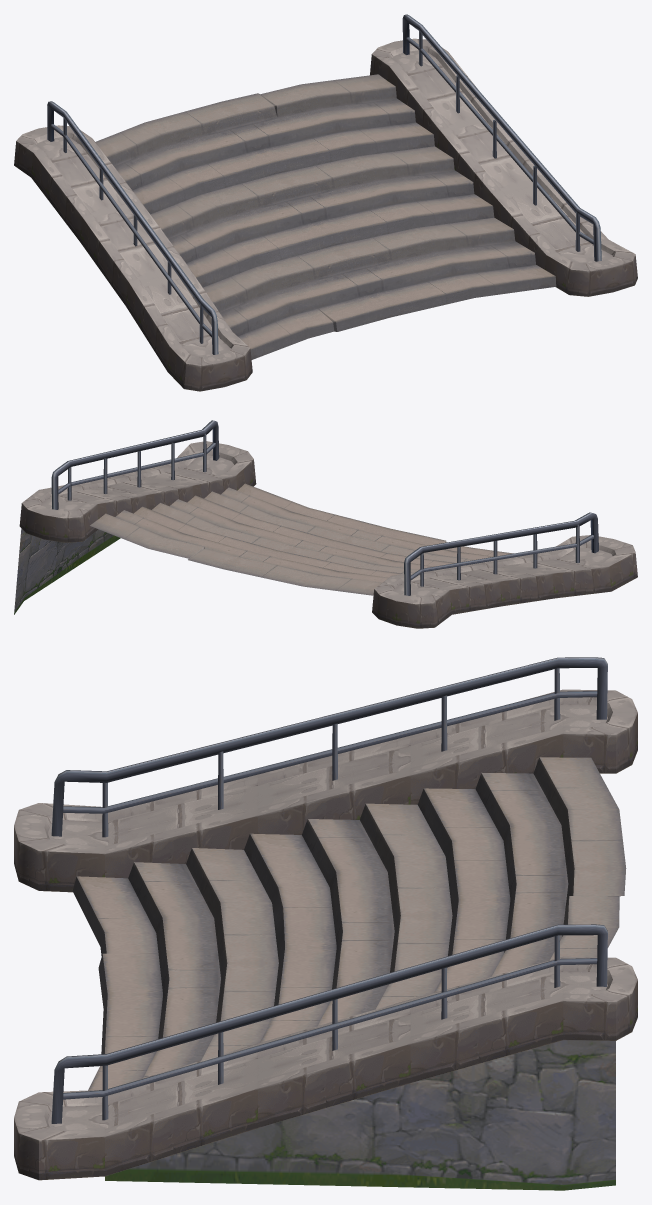
Rendered from hbxz_wj008_03_c.FBX.
The picture shows the model from 3 angles, top to bottom: view 1: azimuth 30°, elevation 25°; view 2: azimuth 150°, elevation 25°; view 3: azimuth 270°, elevation 25°; orthographic projection. The views are drawn at different scales.
Visible parts, largest first — view 1: hbxz_wj008_03_c; view 2: hbxz_wj008_03_c; view 3: hbxz_wj008_03_c.
Boxes of the visible parts, x1,y1,x2,y2 form: hbxz_wj008_03_c: [14, 14, 637, 391]; hbxz_wj008_03_c: [14, 420, 637, 628]; hbxz_wj008_03_c: [14, 657, 637, 1190].
Bounding box in the file's own units: 729 × 231 × 564.
